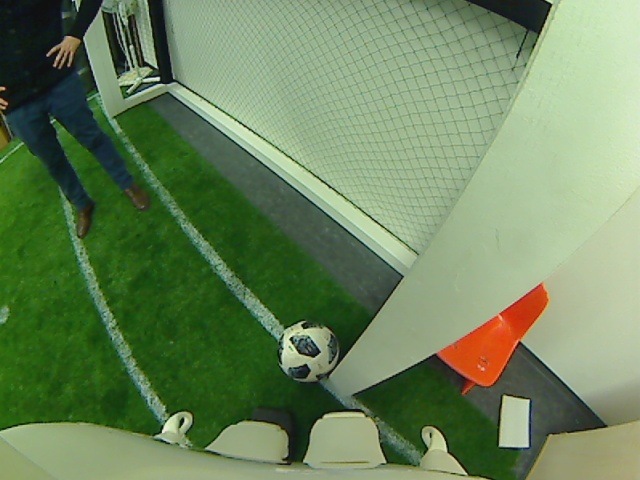ball: (276, 319, 340, 387)
